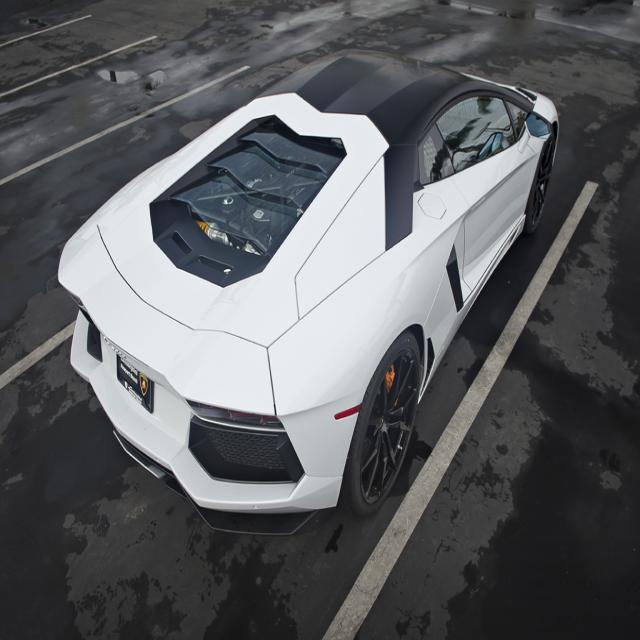car: (59, 69, 553, 535)
